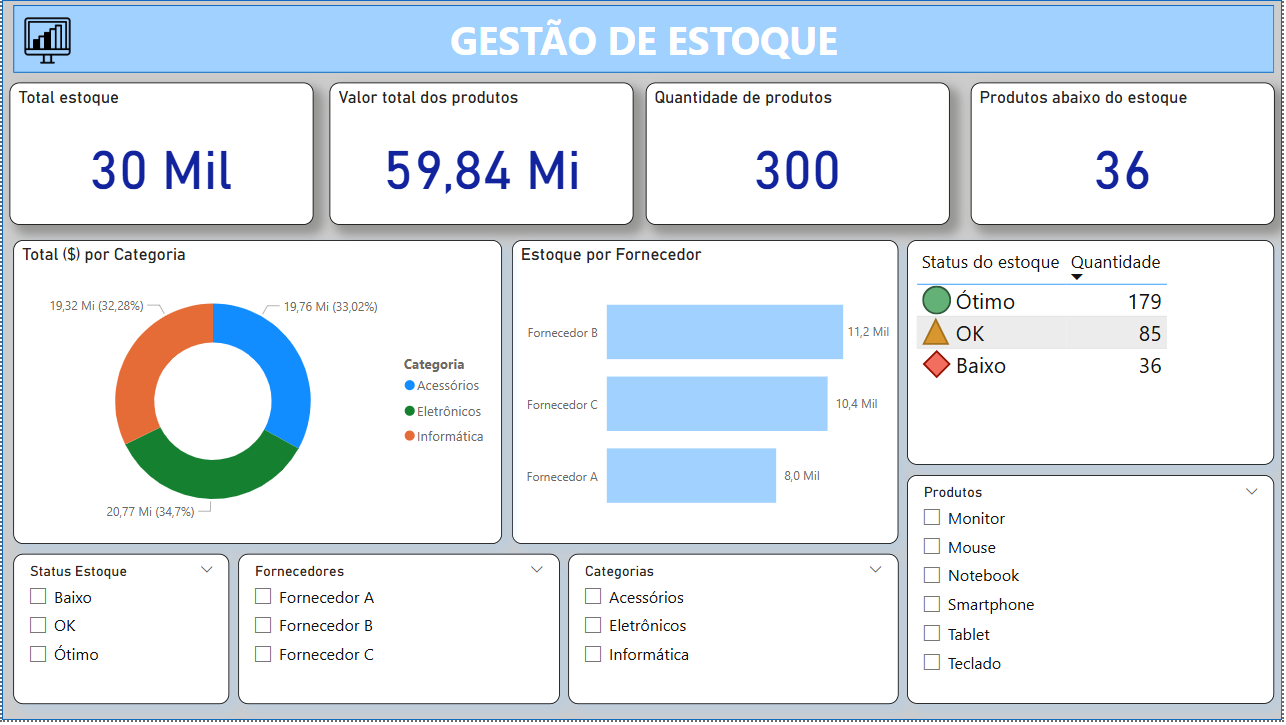

The page's visual inventory and layout, read from the dashboard file:
{"tool":"powerbi","page":{"name":"Página 1","canvas":[1280,720],"ordinal":0},"visuals":[{"type":"shape","box":[0,0,1280,720],"z":0},{"type":"card","title":"Total estoque","fields":{"Values":["Dados.Total Estoque (R$)"]},"box":[7.5,82.5,303.8,142.5],"z":1000},{"type":"card","title":"Valor total dos produtos","fields":{"Values":["Dados.Total ($)"]},"box":[327.5,82.5,303.8,142.5],"z":2000},{"type":"card","title":"Quantidade de produtos","fields":{"Values":["Dados.Qtd Produtos"]},"box":[643.8,82.5,303.8,142.5],"z":3000},{"type":"card","title":"Produtos abaixo do estoque","fields":{"Values":["Dados.Estoque baixo"]},"box":[968.8,82.5,303.8,142.5],"z":4000},{"type":"barChart","fields":{"Category":["Dados.Fornecedor"],"Y":["Dados.Total Estoque"]},"box":[510,240,386.2,303.8],"z":5000},{"type":"donutChart","fields":{"Y":["Dados.Total ($)"],"Series":["Dados.Categoria"]},"box":[11.2,240,488.8,303.8],"z":6000},{"type":"tableEx","fields":{"Values":["Dados.Status Estoque","Dados.Qtd Produtos"]},"box":[905,240,367.5,225],"z":7000},{"type":"slicer","fields":{"Values":["Dados.Status Estoque"]},"box":[11.2,553.8,216.2,150],"z":8000},{"type":"slicer","fields":{"Values":["Dados.Fornecedor"]},"box":[236.2,553.8,321.2,150],"z":9000},{"type":"shape","box":[11.1,4.4,1261.1,67.8],"z":10000},{"type":"slicer","fields":{"Values":["Dados.Categoria"]},"box":[566.2,553.8,330,150],"z":11000},{"type":"slicer","fields":{"Values":["Dados.Produto"]},"box":[905,475,367.5,228.8],"z":12000},{"type":"image","box":[17.5,12.5,56.2,56.2],"z":13000}]}

Visuals, with their boxes in screenshot pixels (x1, y1, x2, y2), scaled from the page's 1280x720 canvas onto the 1286x725 screenshot:
shape: (0,0,1285,724)
"Total estoque" card: (8,83,313,227)
"Valor total dos produtos" card: (329,83,634,227)
"Quantidade de produtos" card: (647,83,952,227)
"Produtos abaixo do estoque" card: (973,83,1279,227)
barChart - Dados.Fornecedor x Dados.Total Estoque: (512,242,900,548)
donutChart - Dados.Total ($) x Dados.Categoria: (11,242,502,548)
tableEx - Dados.Status Estoque x Dados.Qtd Produtos: (909,242,1278,468)
slicer - Dados.Status Estoque: (11,558,228,709)
slicer - Dados.Fornecedor: (237,558,560,709)
shape: (11,4,1278,73)
slicer - Dados.Categoria: (569,558,900,709)
slicer - Dados.Produto: (909,478,1278,709)
image: (18,13,74,69)
